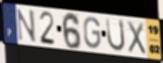2: (38, 10, 56, 47)
6: (61, 11, 83, 51)
G: (83, 16, 102, 51)
N: (16, 8, 38, 44)
U: (105, 17, 126, 53)
X: (126, 20, 147, 56)
